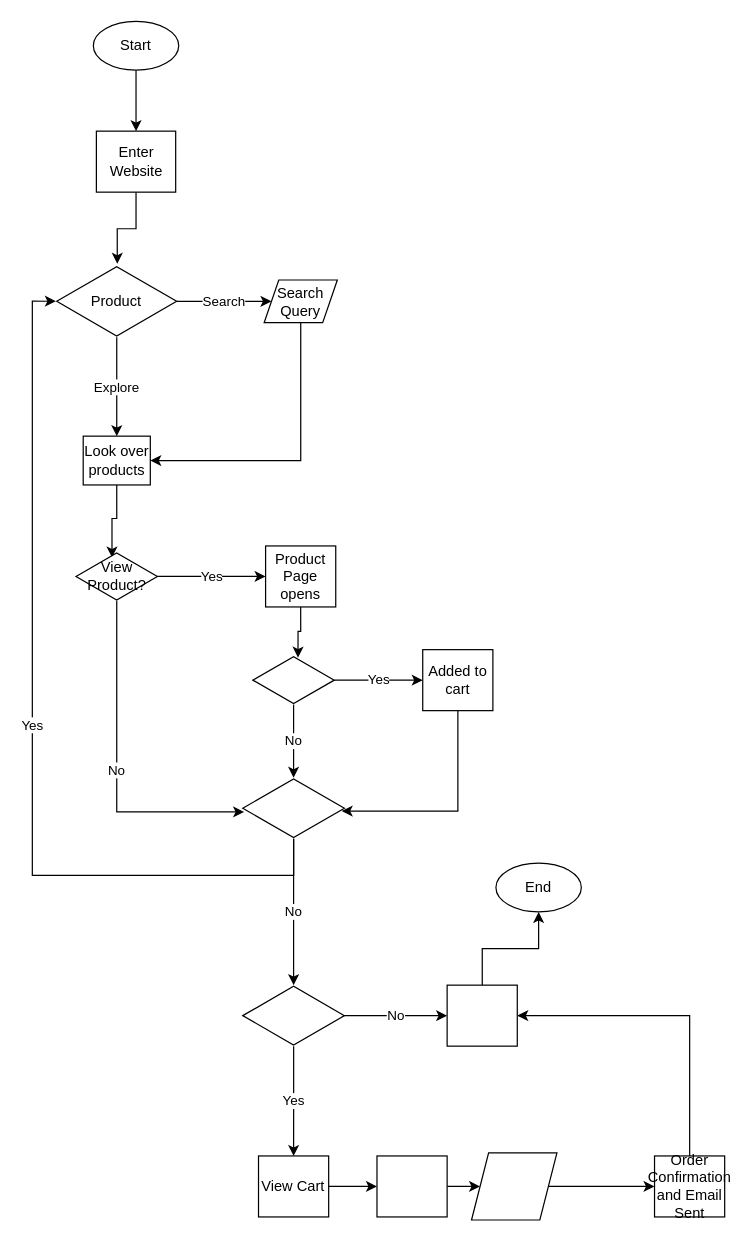
Some shapes in this 752 by 1243 pixel diagram are drawn without their labels. The centre of each missing label's shape, as x and y in pixels:
"Add Item to Cart?" goes at point (293, 680).
"Check out?" goes at point (293, 1015).
"Continue Shopping?" goes at point (293, 808).
"Input Payment Information" goes at point (513, 1186).
"Leave Website" goes at point (481, 1015).
"View Payment" goes at point (411, 1186).
